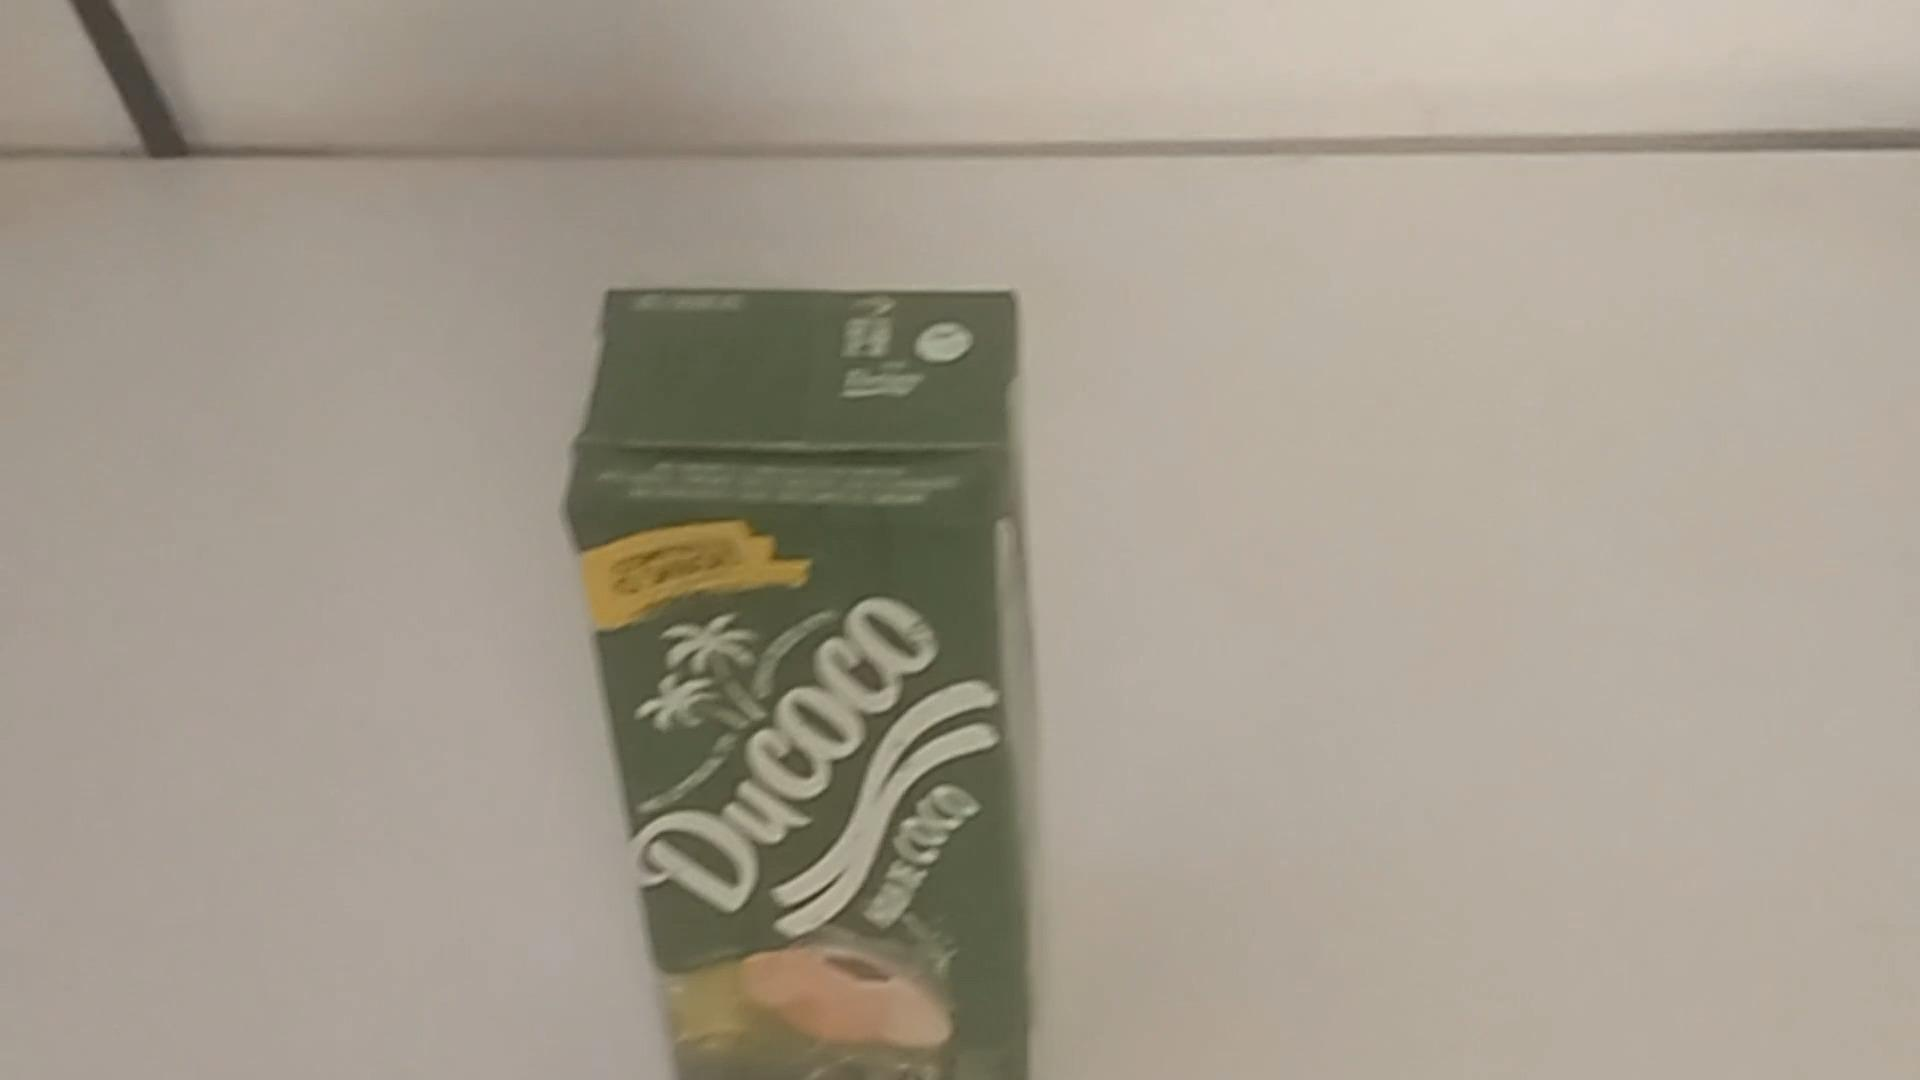coco: (560, 287, 1036, 1080)
